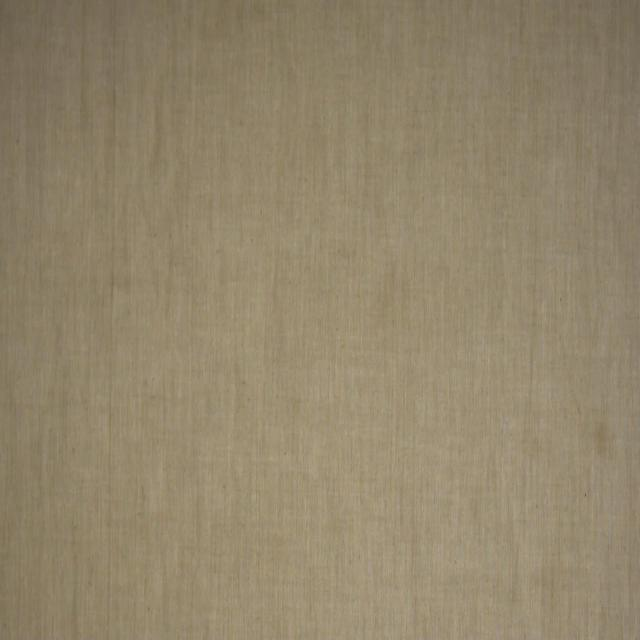dirty: (596, 412, 610, 457)
